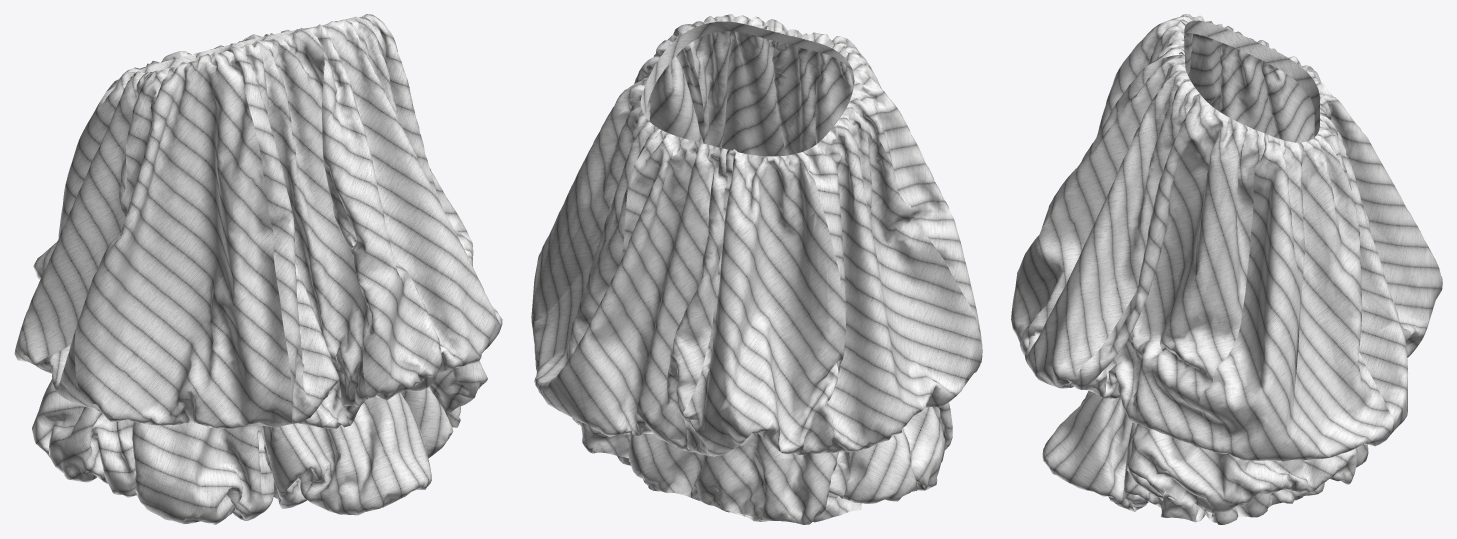
3 renders of one model, left to right at view 1: azimuth 30°, elevation 25°; view 2: azimuth 150°, elevation 25°; view 3: azimuth 270°, elevation 25°, orthographic. The views are drawn at different scales.
Visible parts, largest first — view 1: dress try; view 2: dress try; view 3: dress try.
Part boxes in pixels (x1,y1,x2,y2): dress try: (14,14,502,524); dress try: (531,14,982,524); dress try: (1011,14,1442,524).
Bounding box in the file's own units: 60.95 × 62.13 × 56.43.
